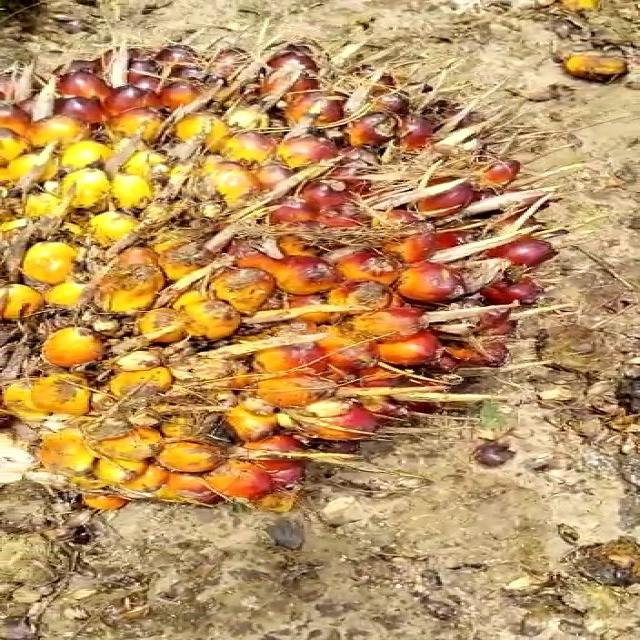palm oil: (0, 34, 544, 520)
